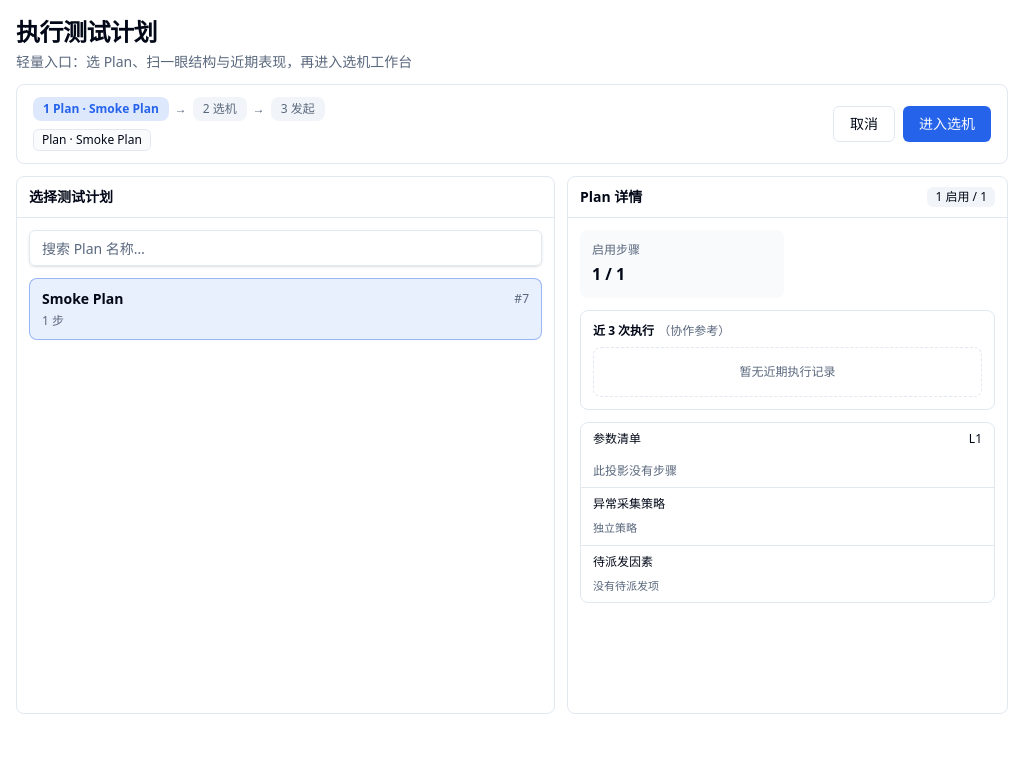
Test: PlanExecutePage › keeps the page title and view-specific subtitle visible in selection phase
Expected: the text "启用步骤" is shown, [592,241,640,258]
Click the button "进入选机".
click(947, 124)  # box [903,106,991,142]
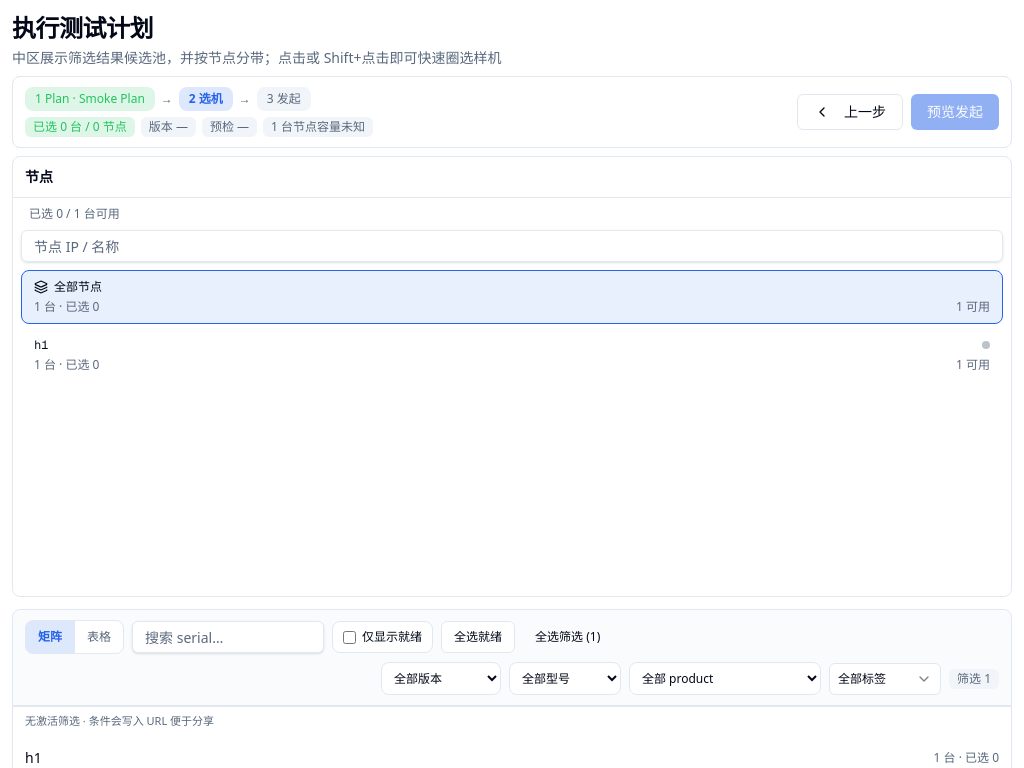
Expected: the heading "执行测试计划" is shown, [12,11,153,44]
Now the text "中区展示筛选结果候选池，并按节点分带；点击或 Shift+点击即可快速圈选样机" is shown, box [12,48,502,68]
Click the button "表格".
click(98, 637)  # box [74,621,123,653]
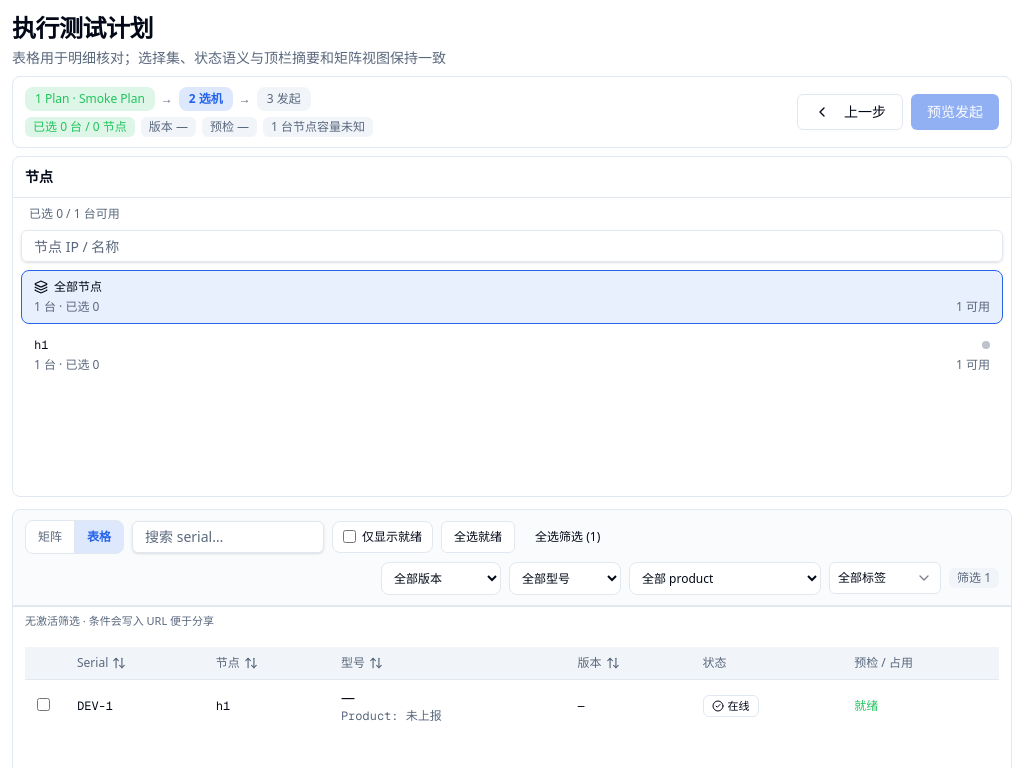
Now the text "表格用于明细核对；选择集、状态语义与顶栏摘要和矩阵视图保持一致" is shown, box [12,48,446,68]
